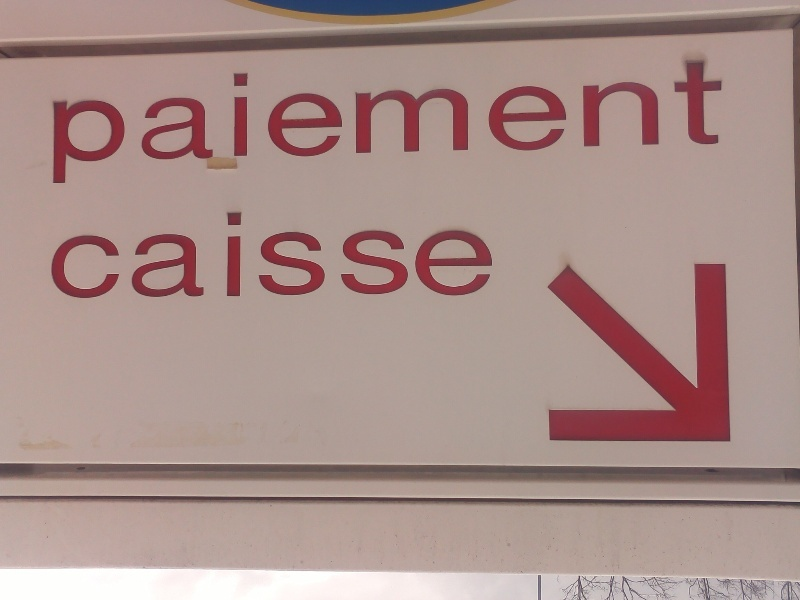text: (65, 56, 80, 185), (81, 56, 96, 185), (97, 56, 112, 185), (113, 56, 128, 185), (129, 56, 144, 185), (145, 56, 160, 185), (161, 56, 176, 185), (177, 56, 192, 185), (193, 56, 208, 185), (209, 56, 224, 185), (225, 56, 240, 185), (241, 56, 256, 185), (257, 56, 272, 185), (273, 56, 288, 185), (289, 56, 304, 185), (305, 56, 320, 185), (321, 56, 336, 185), (337, 56, 352, 185), (353, 56, 368, 185), (369, 56, 384, 185), (385, 56, 400, 185), (401, 56, 416, 185), (417, 56, 432, 185), (433, 56, 448, 185), (449, 56, 464, 185), (465, 56, 480, 185), (481, 56, 496, 185), (497, 56, 512, 185), (513, 56, 528, 185), (529, 56, 544, 185), (545, 56, 560, 185), (561, 56, 576, 185), (577, 56, 592, 185), (593, 56, 608, 185), (609, 56, 624, 185), (625, 56, 640, 185), (641, 56, 656, 185), (657, 56, 672, 185), (673, 56, 688, 185), (689, 56, 704, 185), (705, 56, 720, 185), (50, 56, 64, 185), (65, 210, 80, 299), (81, 210, 96, 299), (97, 210, 112, 299), (113, 210, 128, 299), (129, 210, 144, 299), (145, 210, 160, 299), (161, 210, 176, 299), (177, 210, 192, 299), (193, 210, 208, 299), (209, 210, 224, 299), (225, 210, 240, 299), (241, 210, 256, 299), (257, 210, 272, 299), (273, 210, 288, 299), (289, 210, 304, 299), (305, 210, 320, 299), (321, 210, 336, 299), (337, 210, 352, 299), (353, 210, 368, 299), (369, 210, 384, 299), (385, 210, 400, 299), (401, 210, 416, 299), (417, 210, 432, 299), (433, 210, 448, 299), (449, 210, 464, 299), (465, 210, 480, 299), (481, 210, 495, 299), (51, 210, 64, 299), (721, 56, 724, 185)
